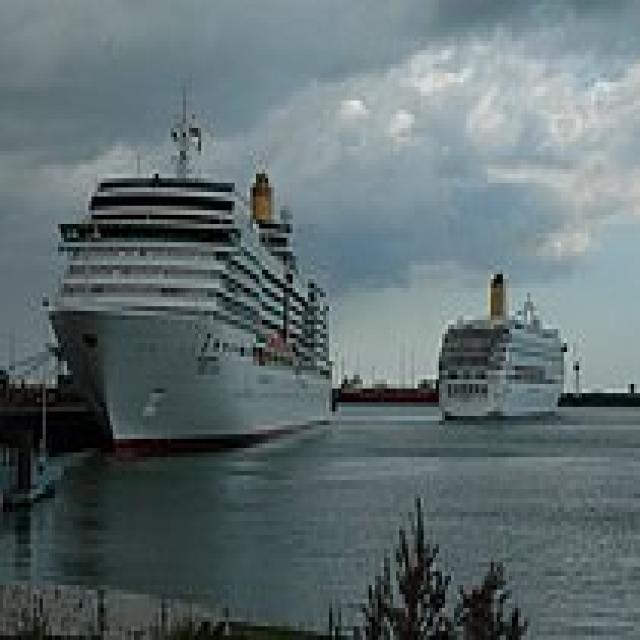Cruise: (37, 78, 332, 452), (433, 260, 564, 420)
